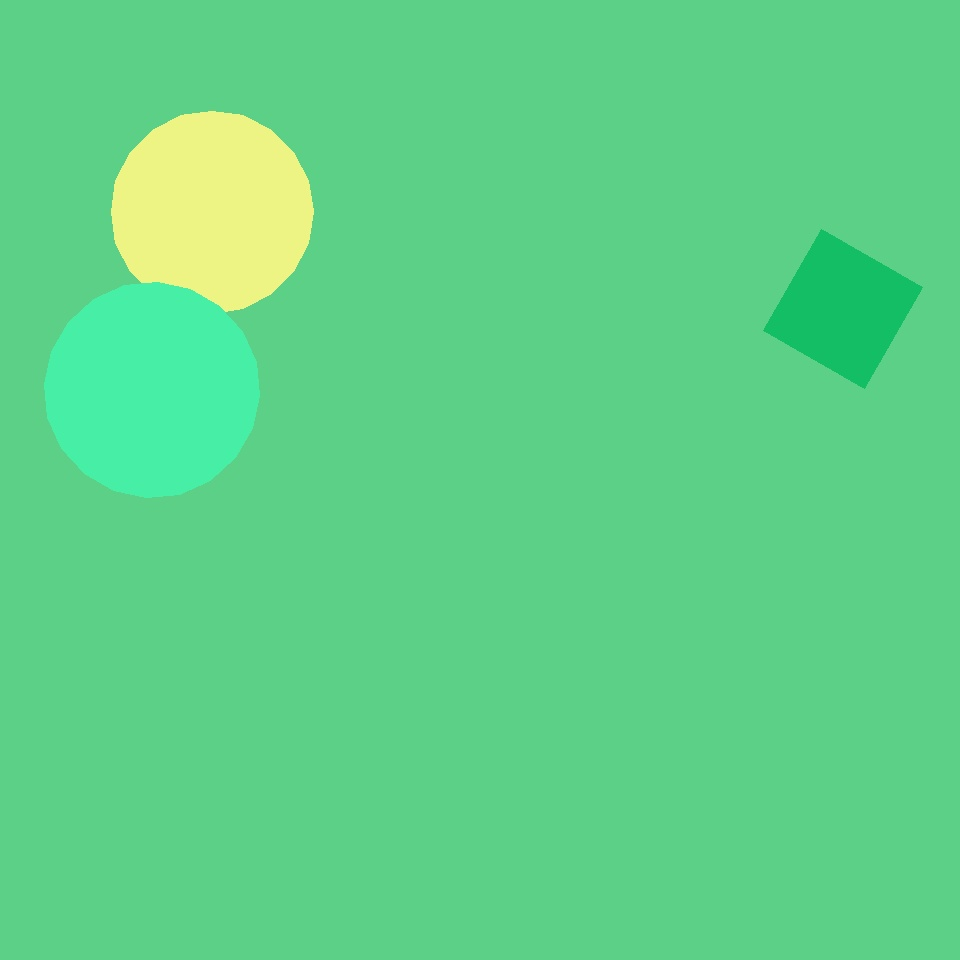circle: (361, 502, 499, 638), (271, 656, 417, 784)
square: (612, 118, 805, 312), (764, 230, 922, 389)
triangle: (601, 501, 939, 839), (460, 49, 792, 381), (443, 708, 690, 955), (44, 282, 260, 497), (111, 111, 313, 313)
